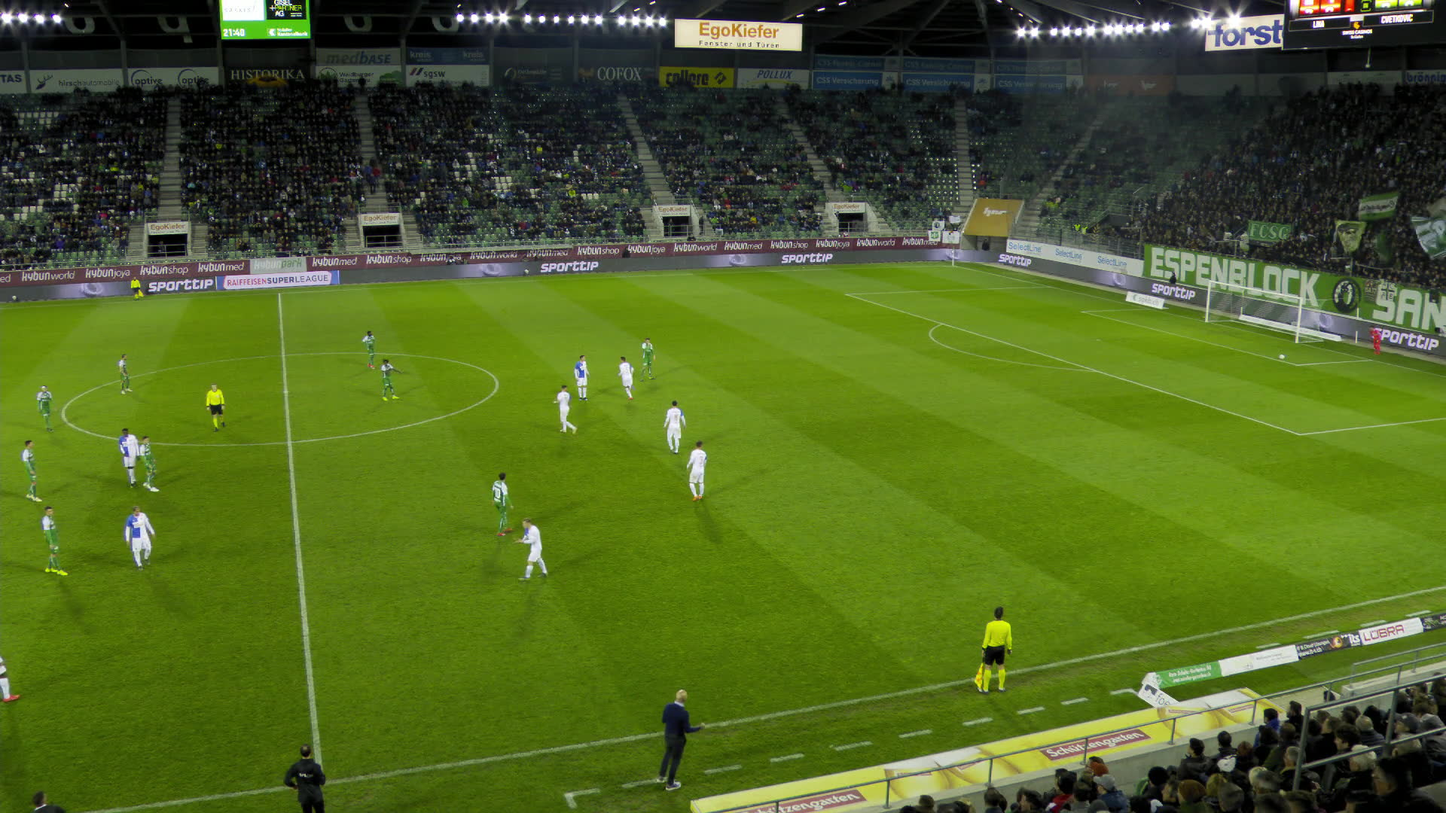ball: (1279, 355, 1284, 358)
player: (513, 516, 554, 582), (124, 504, 156, 574), (41, 506, 67, 575), (490, 471, 517, 536), (683, 440, 708, 504), (116, 427, 140, 488), (21, 440, 41, 504), (664, 400, 685, 455), (138, 435, 158, 490), (551, 385, 572, 436), (0, 653, 18, 701), (37, 385, 55, 431), (360, 331, 380, 370), (380, 358, 397, 401), (116, 354, 133, 395), (574, 355, 589, 400), (618, 356, 633, 401), (640, 338, 654, 380), (1369, 324, 1382, 354)
referee: (974, 601, 1016, 693), (205, 383, 227, 434), (130, 276, 144, 300)
